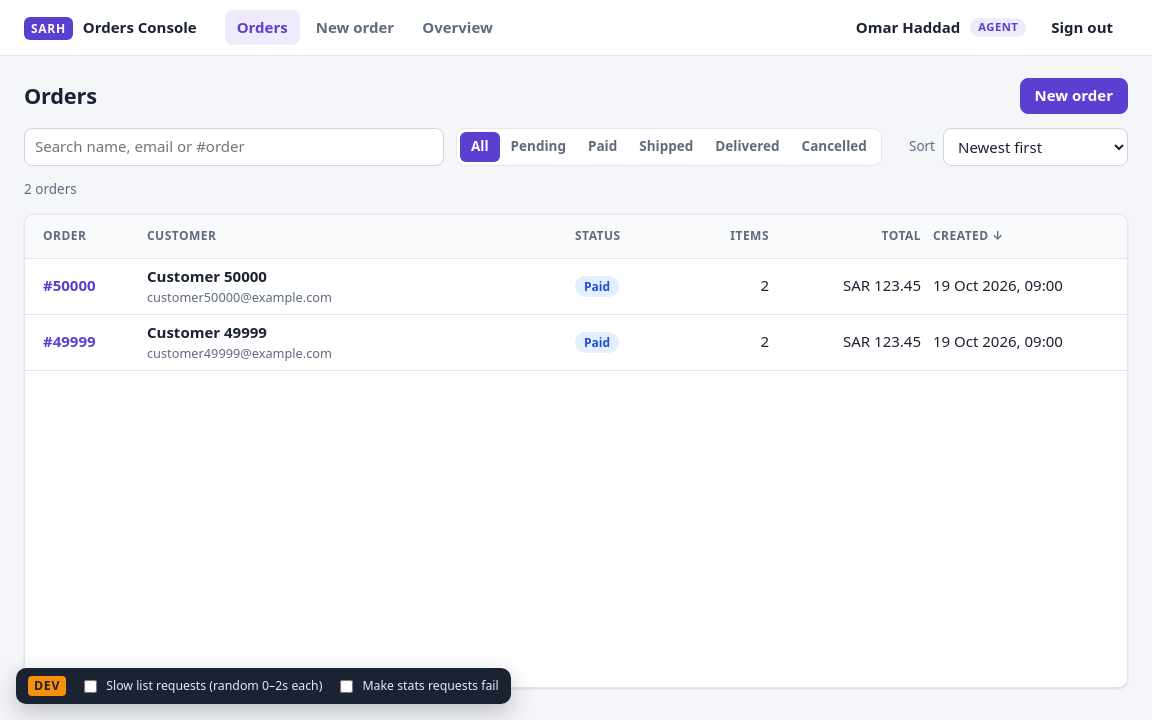
OrdersPage › never drops keystrokes, even when the agent types faster than the URL can update
Check: the link "#50000" is shown, box [43,275,96,295]
# delay: null dispatches every keystroke back to back, without yielding in between.
Type "mohammed.alharbi" into the search field named "Search orders". click: (234, 147)
box: [24,128,444,166]
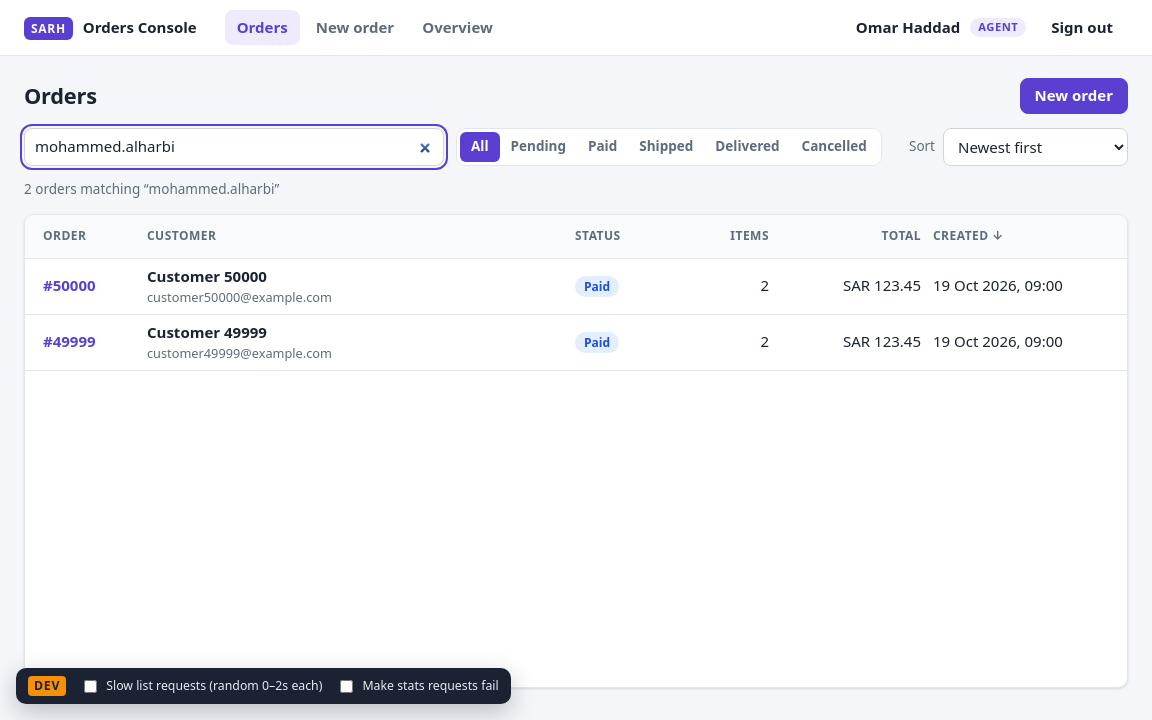
Check: the text "mohammed.alharbi" is shown, box [149,180,274,198]
